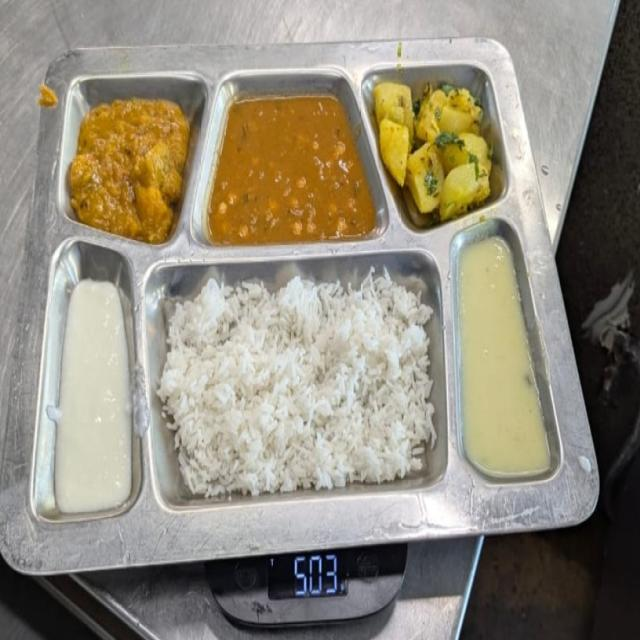Aloo Sabji: (377, 82, 495, 226)
Curd: (56, 274, 136, 520)
Dal: (209, 91, 378, 244)
Phirni: (456, 238, 556, 482)
Pumpkin Sabji: (63, 94, 193, 247)
White Rice: (163, 261, 440, 488)
